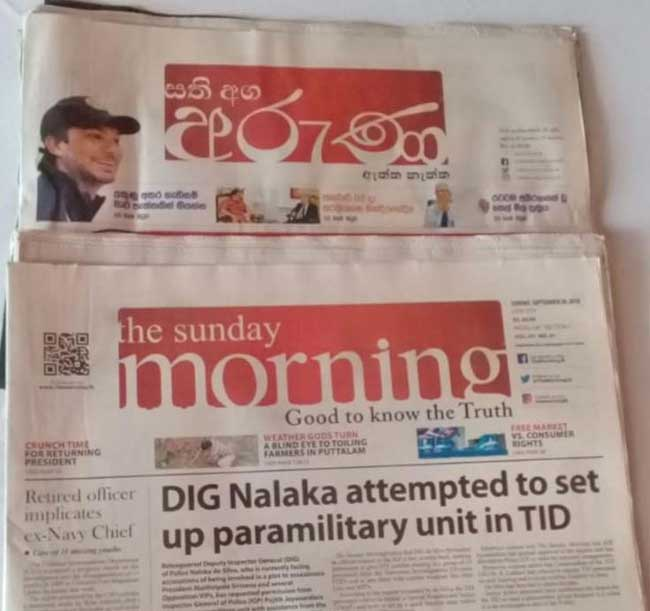news_paper: (7, 229, 650, 607), (9, 1, 650, 365)
